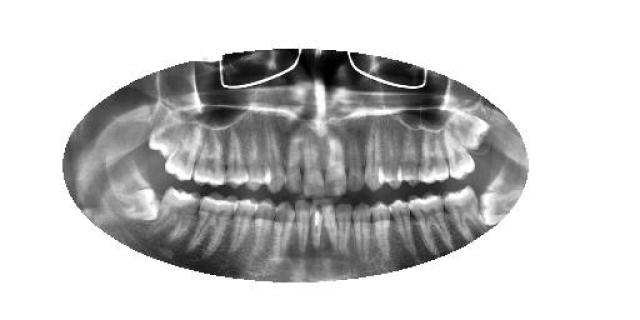Restorations: (478, 186, 522, 225), (118, 185, 158, 224)
